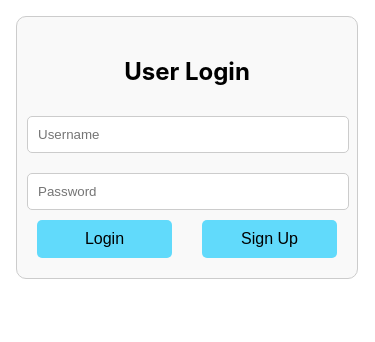
Scenario: Login Component › shows network error on login failure due to server issues
Type "testuser" into the field with placeholder "Username" at {"x": 188, "y": 134}, box [27,116,349,153]
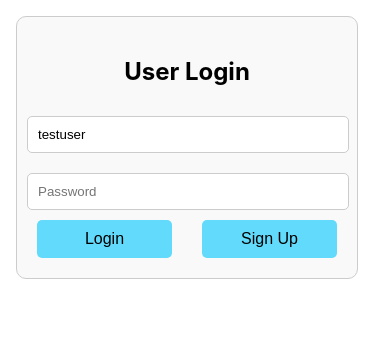
Type "password123" into the password field with placeholder "Password" at {"x": 188, "y": 191}, box [27,173,349,210]
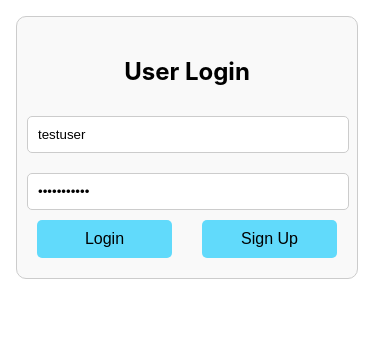
Click the button "Login" at {"x": 104, "y": 239}, box [37,220,172,258]
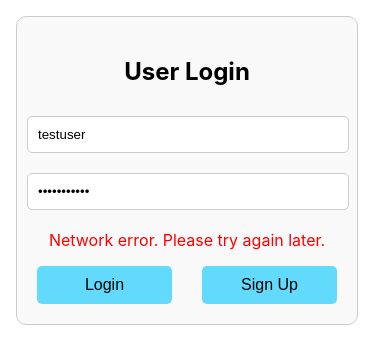
Now the text "Network error. Please try again later." is shown, box [37,230,337,250]
